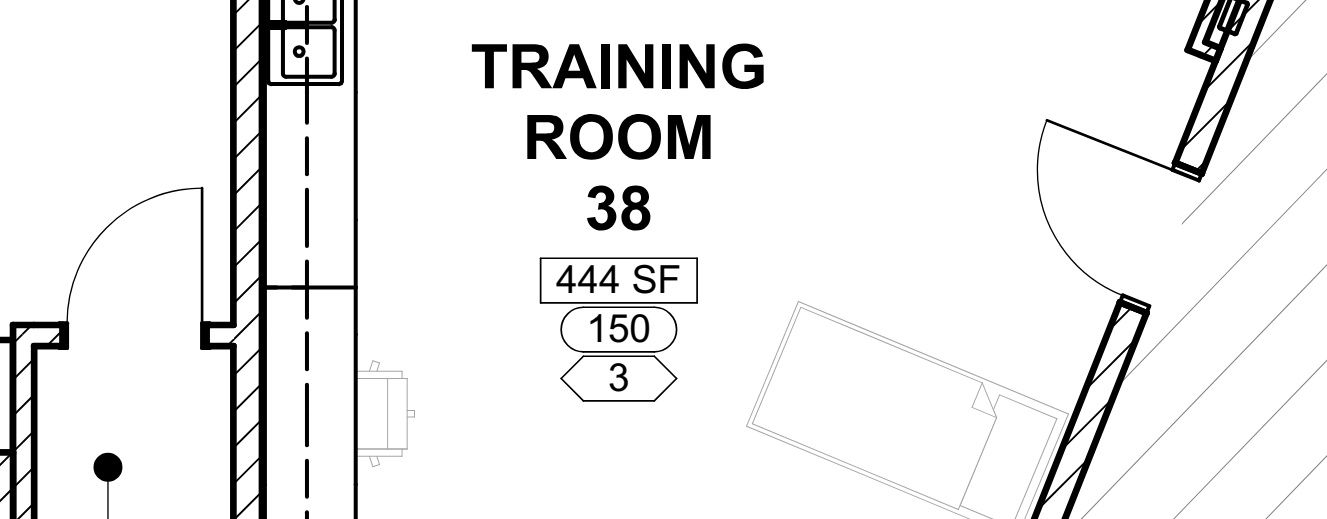door: (1019, 114, 1210, 310), (58, 171, 212, 380)
